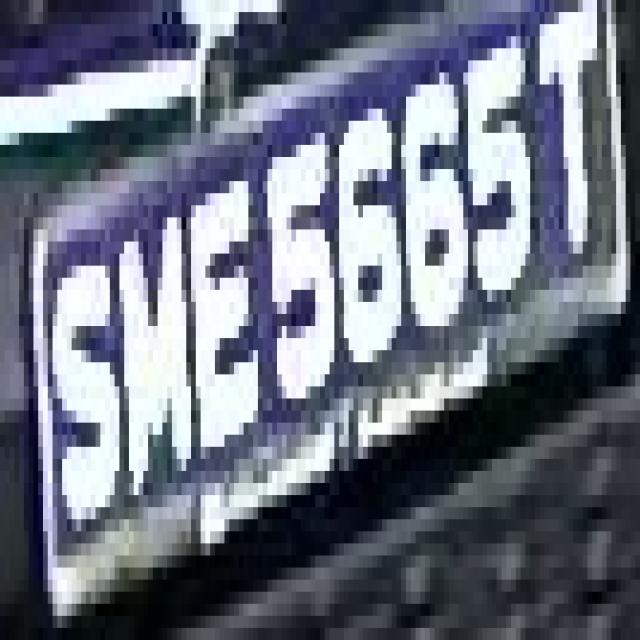5: (454, 24, 549, 387), (263, 97, 334, 434)
6: (397, 12, 482, 374), (325, 96, 406, 398)
E: (177, 133, 272, 483)
M: (115, 181, 186, 483)
S: (43, 157, 115, 580)
T: (530, 0, 611, 302)
